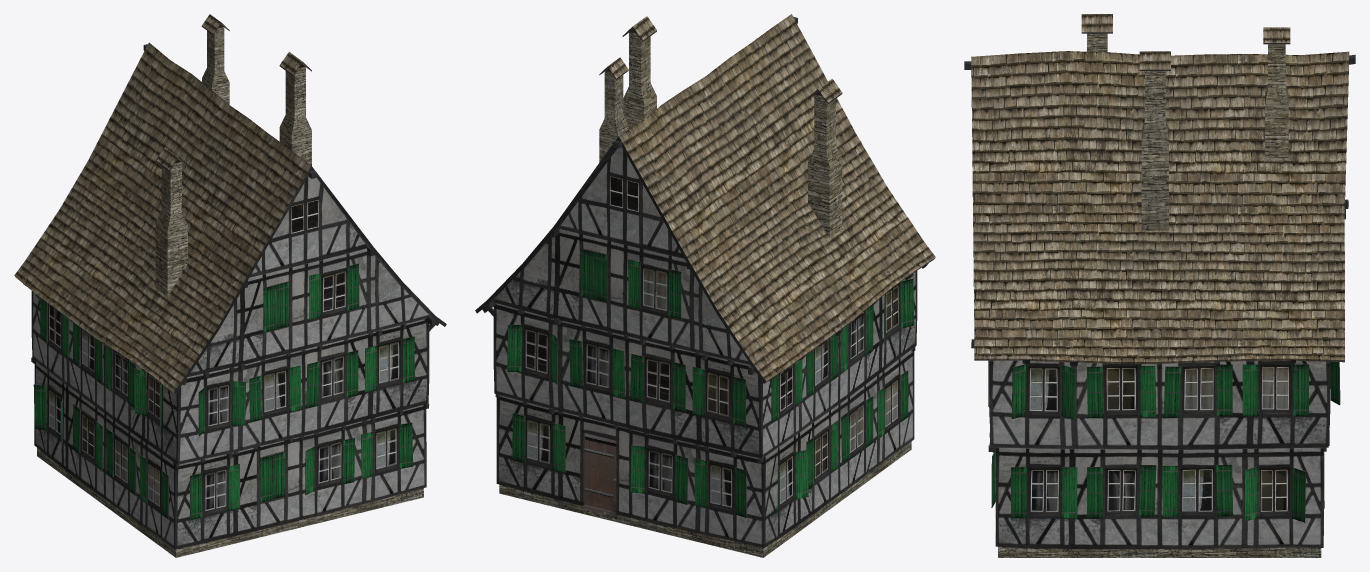
File: half_timbered_1.obj
3 views of the same model, side by side, from view 1: azimuth 30°, elevation 25°; view 2: azimuth 150°, elevation 25°; view 3: azimuth 270°, elevation 25° (orthographic). The views are drawn at different scales.
Parts seen in each view (by area): view 1: MedievalHouse_LOD1; view 2: MedievalHouse_LOD1; view 3: MedievalHouse_LOD1.
Boxes of the visible parts, box(x1,y1,x2,y2) form: MedievalHouse_LOD1: box(14, 14, 446, 557); MedievalHouse_LOD1: box(475, 14, 935, 557); MedievalHouse_LOD1: box(964, 14, 1355, 557).
Bounding box in the file's own units: 8.22 × 11.79 × 8.71.
Materials: 1 (1 with a texture image).
